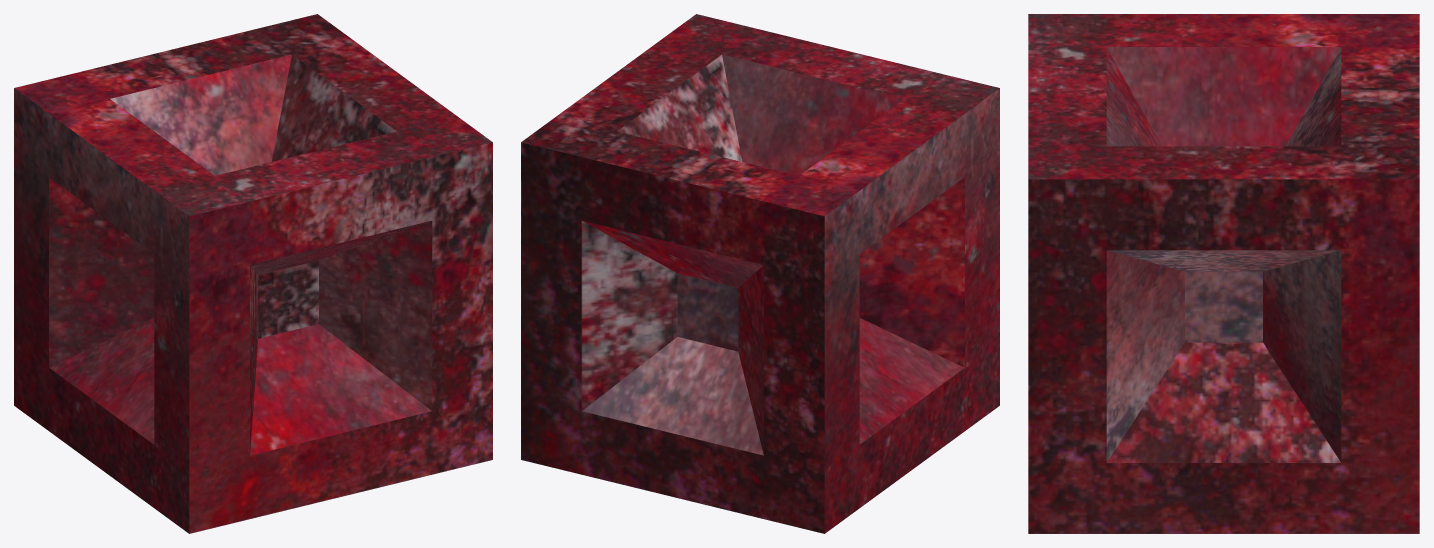
The model's file is iron.glb.
3 renders of one model, left to right at view 1: azimuth 30°, elevation 25°; view 2: azimuth 150°, elevation 25°; view 3: azimuth 270°, elevation 25°, orthographic. The views are drawn at different scales.
Parts seen in each view (by area): view 1: iron; view 2: iron; view 3: iron.
Part boxes in pixels (x1,y1,x2,y2): iron: (14, 14, 492, 533); iron: (521, 14, 999, 533); iron: (1028, 14, 1419, 533).
Bounding box in the file's own units: 1 × 1 × 1.
1 material, 1 textured.
